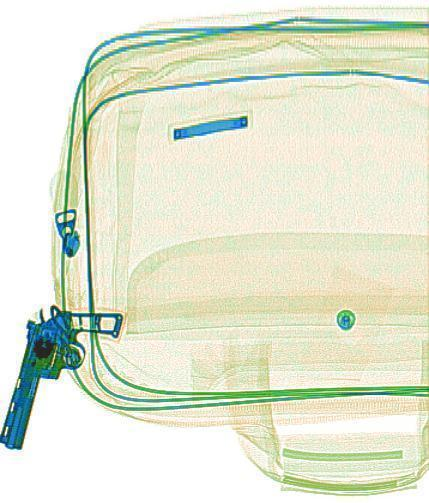Gun: (0, 288, 119, 458)
